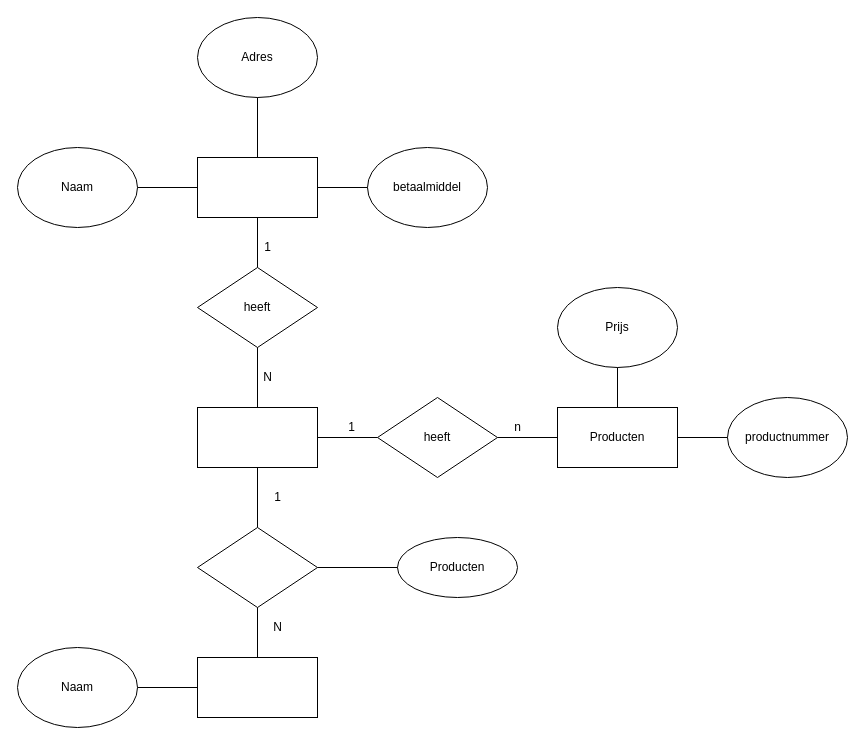
This 865x745 diagram has some shape labels left out. The shapes that lost their labels are listed below. From the top down, each one's centre as x and y in pixels, then its label:
At point (257, 187): "klant".
At point (257, 437): "Tennis Webshop".
At point (257, 567): "Onderhoud".
At point (257, 687): "Medewerker".
